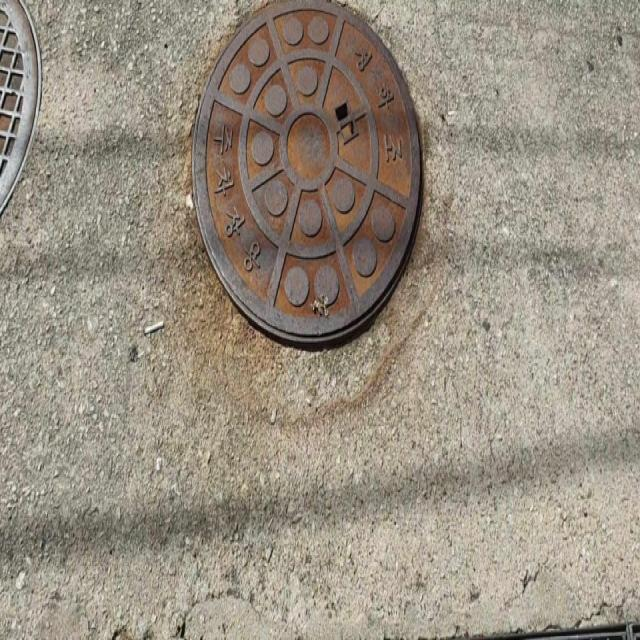manhole: (194, 0, 421, 346)
